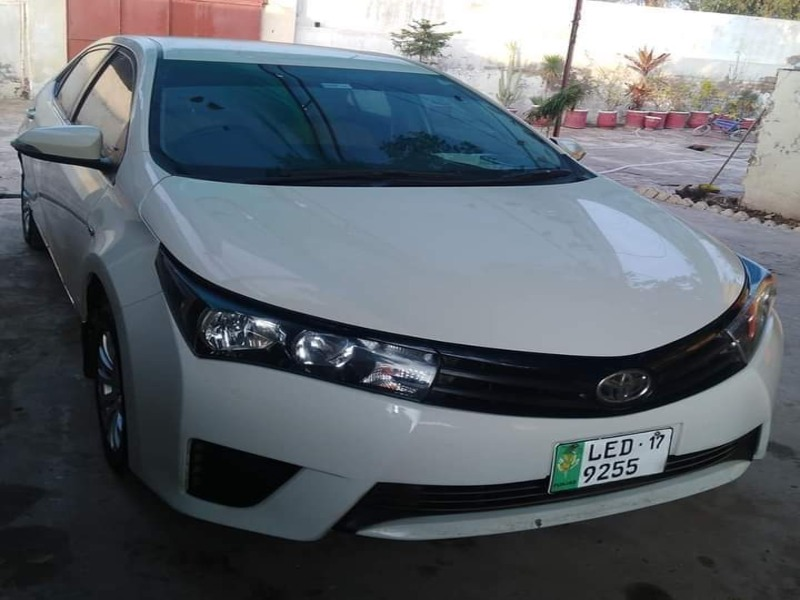License Plate: (549, 427, 675, 499)
